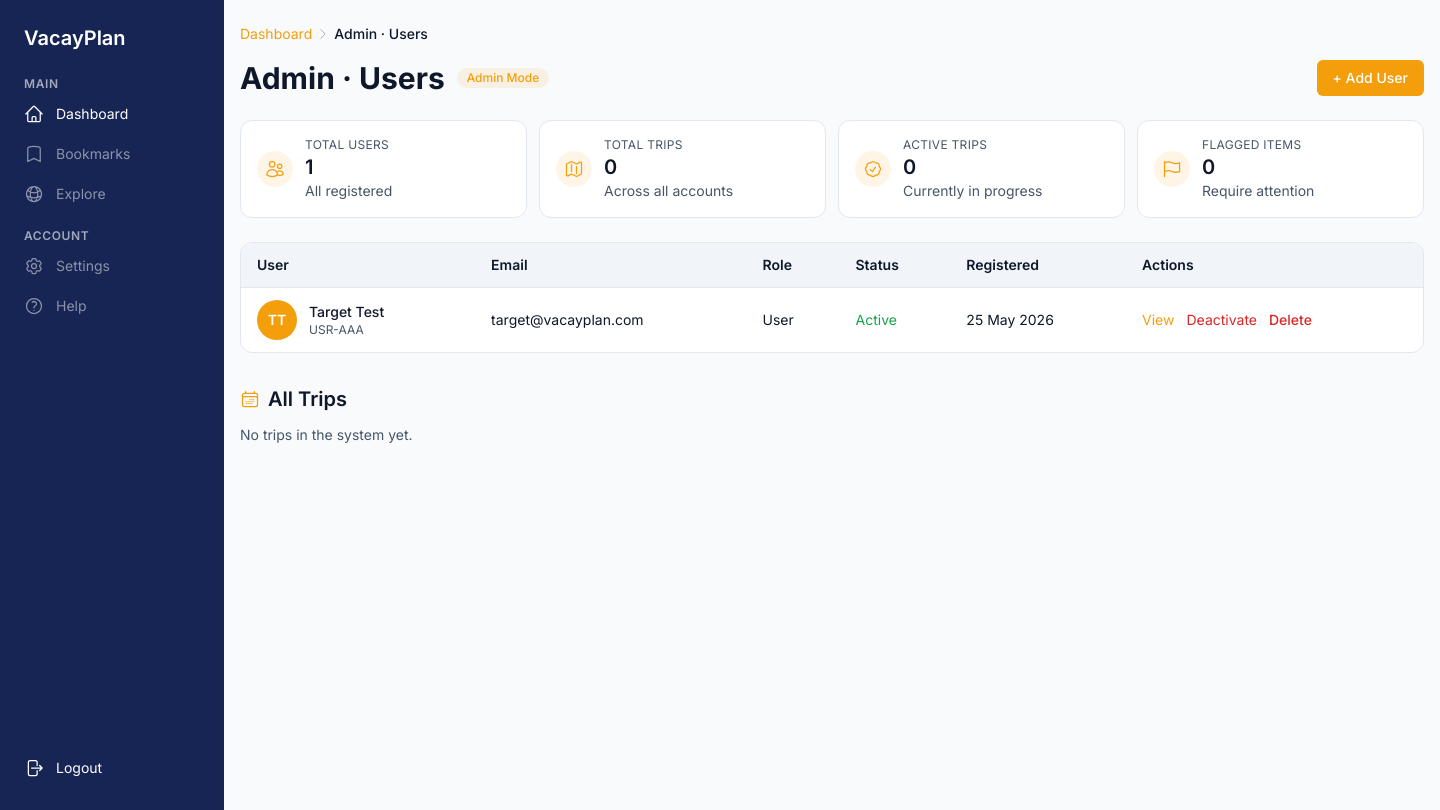
Scenario: AdminUserList › delete user › Cancel closes the dialog without firing DELETE
Click the button "Delete" at (1290, 320), box [1269,310,1312,330]
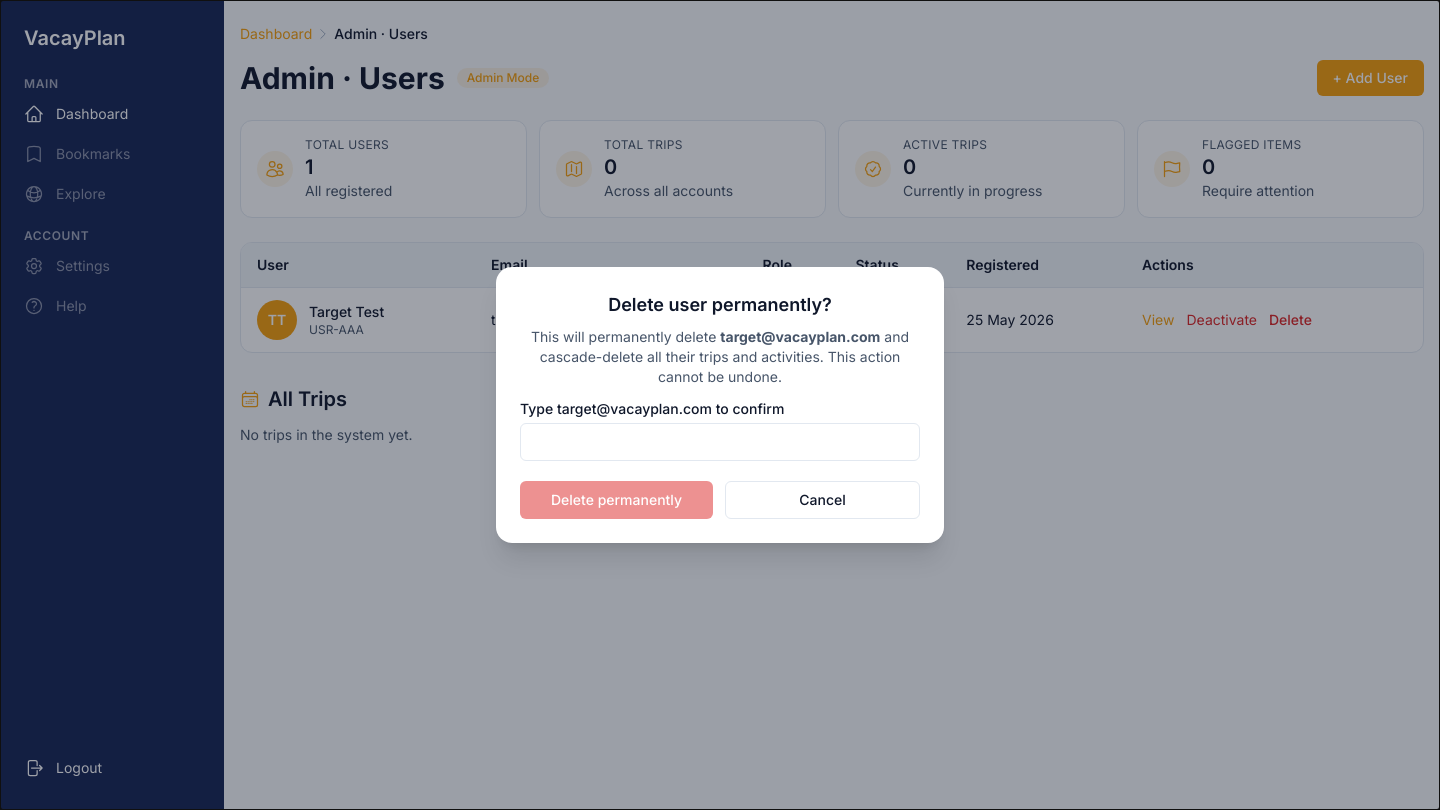
Click the button "Cancel" at (822, 500), box [725,481,920,519]
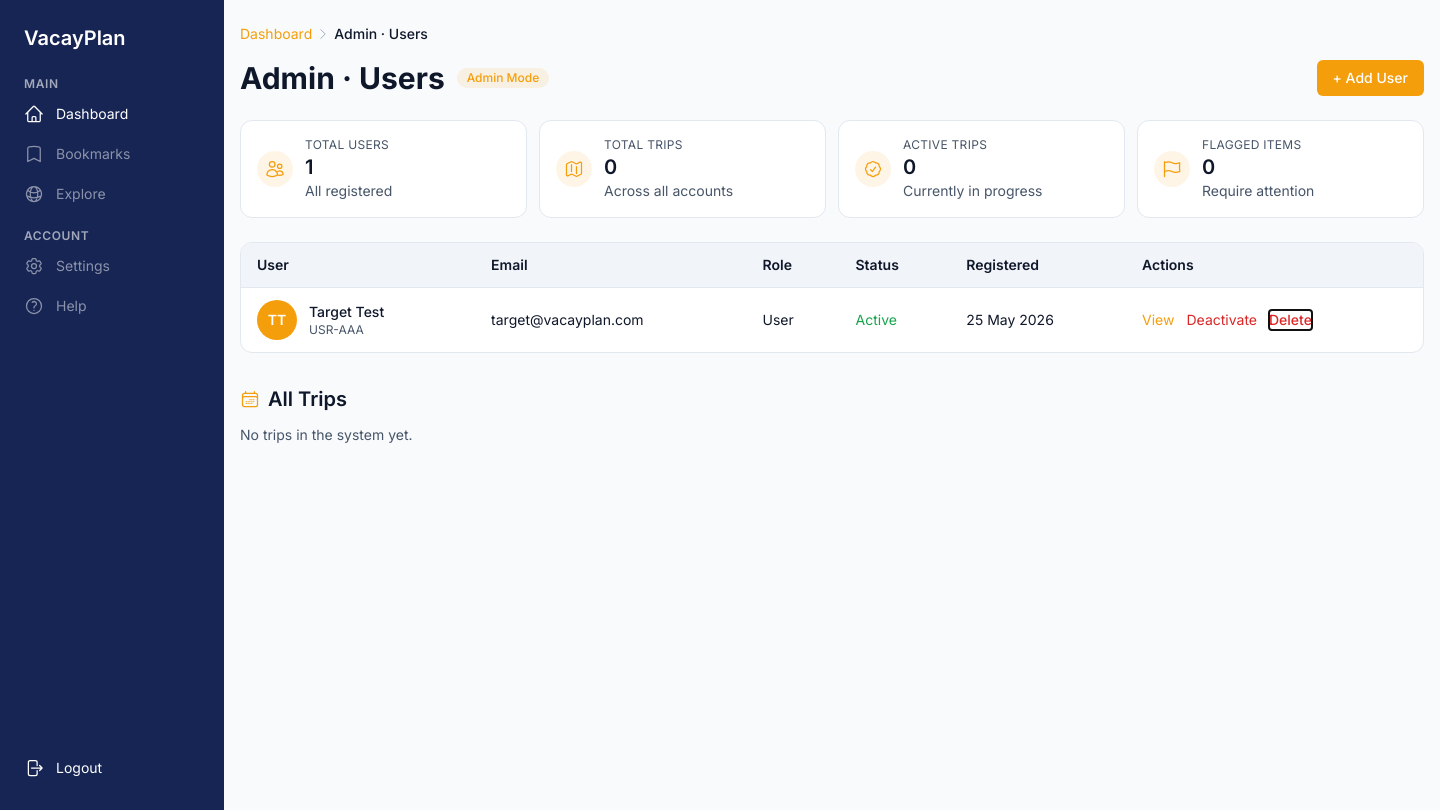
Expected: the text "target@vacayplan.com" is shown, [475,288,746,352]
Expected: the dialog is gone
